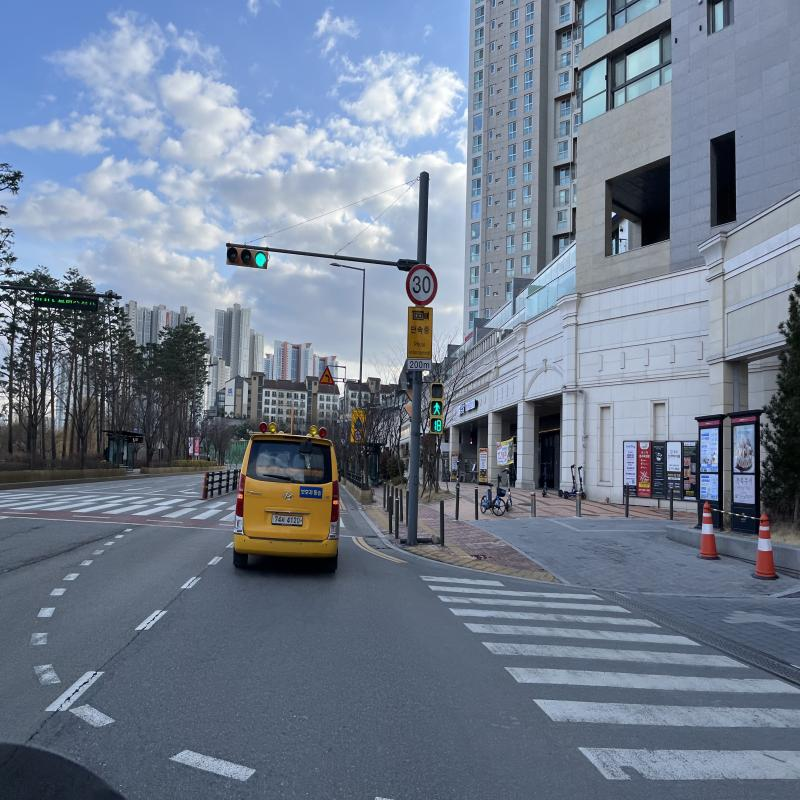green: (253, 251, 268, 268)
